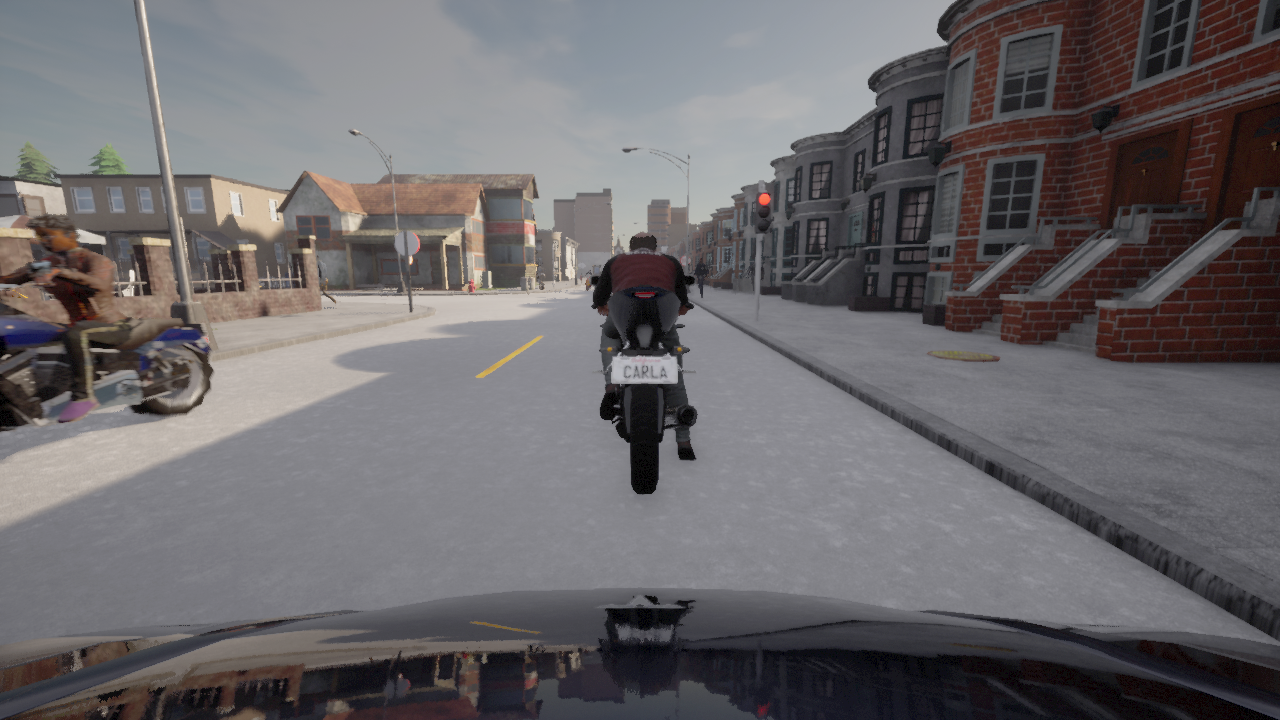cyclist: (0, 588, 1279, 719), (0, 261, 214, 432), (589, 274, 697, 493), (585, 274, 591, 290), (259, 283, 261, 287)
pedestrian: (316, 253, 338, 307), (693, 256, 707, 298), (748, 258, 763, 294), (585, 264, 595, 291), (537, 263, 545, 287)
